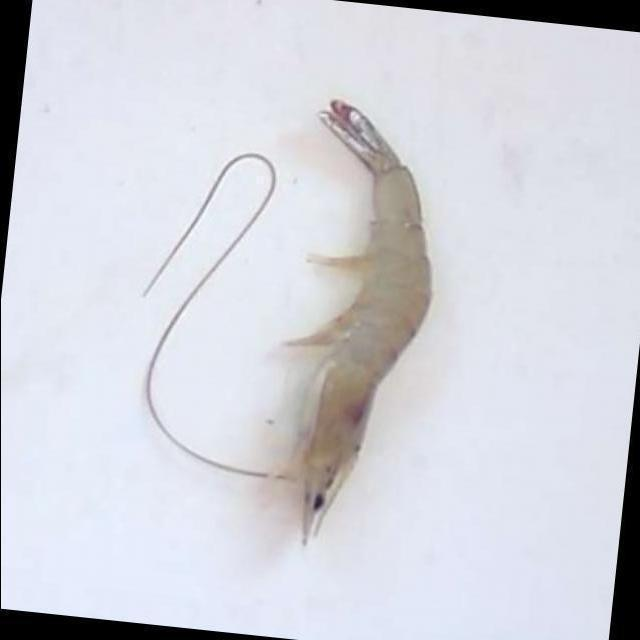shrimp: (284, 100, 432, 544)
